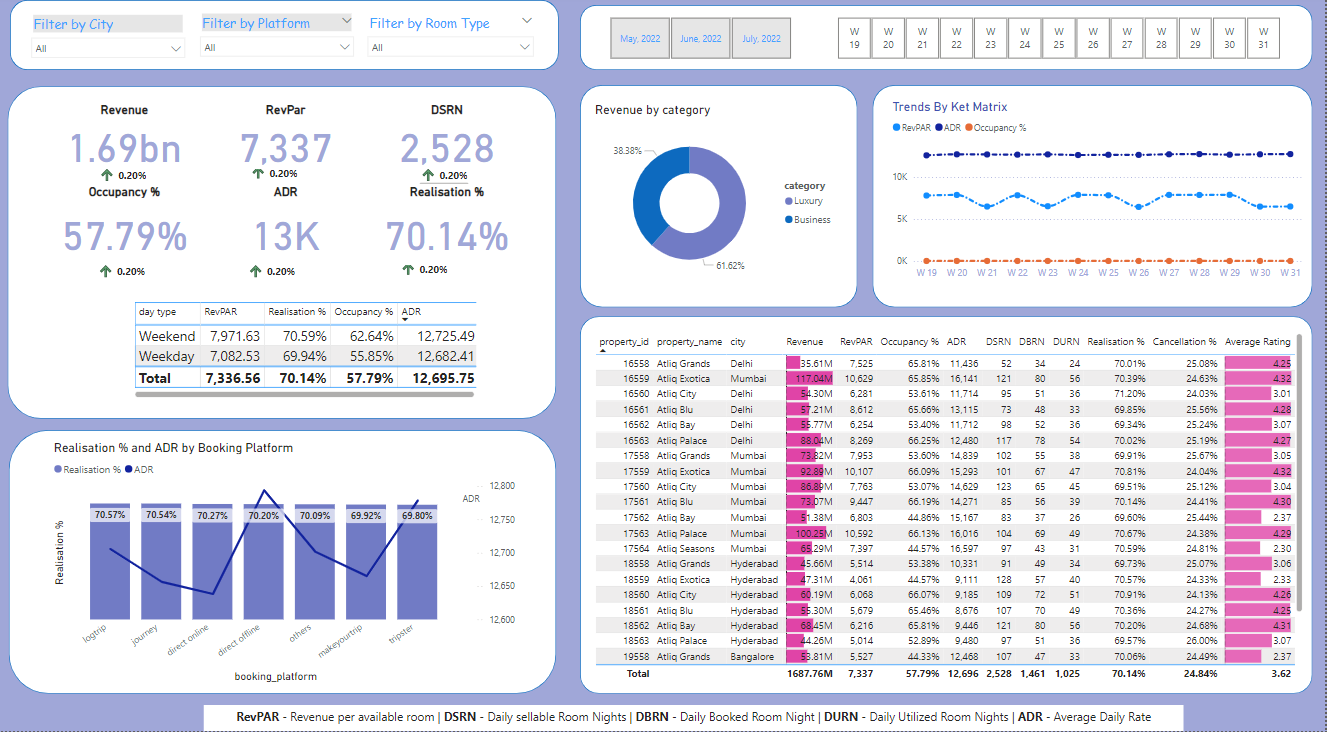

The dashboard page shown, as its layout file describes it:
{"tool":"powerbi","page":{"name":"Page 1","canvas":[1800,1000],"ordinal":0},"visuals":[{"type":"shape","box":[788,436.5,995.2,512.9],"z":0},{"type":"shape","box":[1184.8,123,597.8,302.3],"z":1000},{"type":"shape","box":[787.4,123,377,302.3],"z":2000},{"type":"shape","box":[787.4,14.3,995.2,88.3],"z":3000},{"type":"shape","box":[11.9,591,743.9,358.4],"z":4000},{"type":"shape","box":[9.9,123.6,745.6,451.8],"z":5000},{"type":"shape","box":[12.9,7.5,745.6,95.1],"z":6000},{"type":"tableEx","fields":{"Values":["dim_hotels.property_id","dim_hotels.property_name","dim_hotels.city","key_measures.Revenue","key_measures.RevPAR","key_measures.Occupancy %","key_measures.ADR","key_measures.DSRN","key_measures.DBRN","key_measures.DURN","key_measures.Realisation %","key_measures.Cancellation %"]},"box":[803.3,455.2,971.5,480.6],"z":7000},{"type":"slicer","fields":{"Values":["dim_hotels.city"]},"box":[32.3,22.1,229.3,69.6],"z":8000},{"type":"slicer","fields":{"Values":["dim_rooms.room_class"]},"box":[489.1,20.4,246.3,69.6],"z":9000},{"type":"slicer","fields":{"Values":["dim_date.mmm yy"]},"box":[802.7,24.5,295.5,69.6],"z":10000},{"type":"slicer","fields":{"Values":["dim_date.week no"]},"box":[1111.8,24.5,650.5,69.6],"z":11000},{"type":"tableEx","fields":{"Values":["key_measures.Revenue WoW change %"]},"box":[125,204.5,101.9,64.5],"z":12000},{"type":"card","title":"Revenue","fields":{"Values":["key_measures.Revenue"]},"box":[61.1,146.1,215.7,90],"z":13000},{"type":"donutChart","fields":{"Category":["dim_hotels.category"],"Y":["key_measures.Revenue"]},"box":[802.7,146.7,341.4,254.8],"z":14000},{"type":"lineStackedColumnComboChart","title":"Realisation % and ADR by Booking Platform","fields":{"Y":["key_measures.Realisation %"],"Category":["fact_bookings.booking_platform"],"Y2":["key_measures.ADR"]},"box":[67.9,604.6,636.9,334.6],"z":15000},{"type":"tableEx","fields":{"Values":["key_measures.Revenue WoW change %"]},"box":[330.5,201.1,103.6,56],"z":16000},{"type":"card","title":"RevPar","fields":{"Values":["key_measures.RevPAR"]},"box":[287,146.1,202.1,90],"z":17000},{"type":"lineChart","title":"Trends By Ket Matrix","fields":{"Y":["key_measures.RevPAR","key_measures.ADR","key_measures.Occupancy %"],"Category":["dim_date.mmm yy.Variation.Date Hierarchy.Month","dim_date.week no"]},"box":[1206.9,141.6,567.3,254.8],"z":18000},{"type":"tableEx","fields":{"Values":["dim_date.day type","key_measures.RevPAR","key_measures.Realisation %","key_measures.Occupancy %","key_measures.ADR"]},"box":[177.3,412,475.5,139.3],"z":19000},{"type":"tableEx","fields":{"Values":["key_measures.Revenue WoW change %"]},"box":[535,331.2,95.1,66.2],"z":20000},{"type":"tableEx","fields":{"Values":["key_measures.Revenue WoW change %"]},"box":[124,334.6,103.6,62.8],"z":21000},{"type":"tableEx","fields":{"Values":["key_measures.Revenue WoW change %"]},"box":[561.8,204.1,81.5,64.5],"z":22000},{"type":"tableEx","fields":{"Values":["key_measures.Revenue WoW change %"]},"box":[327.8,334.6,107,62.8],"z":23000},{"type":"card","title":"DSRN","fields":{"Values":["key_measures.DSRN"]},"box":[502.7,146.1,208.9,90],"z":24000},{"type":"card","title":"Realisation %","fields":{"Values":["key_measures.Realisation %"]},"box":[502.7,256.5,208.9,110.4],"z":25000},{"type":"card","title":"ADR","fields":{"Values":["key_measures.ADR"]},"box":[287,256.5,202.1,110.4],"z":26000},{"type":"card","title":"Occupancy %","fields":{"Values":["key_measures.Occupancy %"]},"box":[61.1,256.5,215.7,110.4],"z":27000},{"type":"textbox","box":[276.8,964.7,1331.5,35.7],"z":27001},{"type":"slicer","fields":{"Values":["fact_bookings.booking_platform"]},"box":[261.6,20.4,229.3,69.6],"z":27002}]}

Visuals, with their boxes in screenshot pixels (x1, y1, x2, y2), scaled from the page's 1800x1000 canvas onto the 1327x732 screenshot:
shape: crop(581, 320, 1315, 695)
shape: crop(873, 90, 1314, 311)
shape: crop(580, 90, 858, 311)
shape: crop(580, 10, 1314, 75)
shape: crop(9, 433, 557, 695)
shape: crop(7, 90, 557, 421)
shape: crop(10, 5, 559, 75)
tableEx - dim_hotels.property_id x dim_hotels.property_name: crop(592, 333, 1308, 685)
slicer - dim_hotels.city: crop(24, 16, 193, 67)
slicer - dim_rooms.room_class: crop(361, 15, 542, 66)
slicer - dim_date.mmm yy: crop(592, 18, 810, 69)
slicer - dim_date.week no: crop(820, 18, 1299, 69)
tableEx - key_measures.Revenue WoW change %: crop(92, 150, 167, 197)
"Revenue" card: crop(45, 107, 204, 173)
donutChart - dim_hotels.category x key_measures.Revenue: crop(592, 107, 843, 294)
"Realisation % and ADR by Booking Platform" lineStackedColumnComboChart: crop(50, 443, 520, 687)
tableEx - key_measures.Revenue WoW change %: crop(244, 147, 320, 188)
"RevPar" card: crop(212, 107, 361, 173)
"Trends By Ket Matrix" lineChart: crop(890, 104, 1308, 290)
tableEx - dim_date.day type x key_measures.RevPAR: crop(131, 302, 481, 404)
tableEx - key_measures.Revenue WoW change %: crop(394, 242, 465, 291)
tableEx - key_measures.Revenue WoW change %: crop(91, 245, 168, 291)
tableEx - key_measures.Revenue WoW change %: crop(414, 149, 474, 197)
tableEx - key_measures.Revenue WoW change %: crop(242, 245, 321, 291)
"DSRN" card: crop(371, 107, 525, 173)
"Realisation %" card: crop(371, 188, 525, 269)
"ADR" card: crop(212, 188, 361, 269)
"Occupancy %" card: crop(45, 188, 204, 269)
textbox: crop(204, 706, 1186, 731)
slicer - fact_bookings.booking_platform: crop(193, 15, 362, 66)
